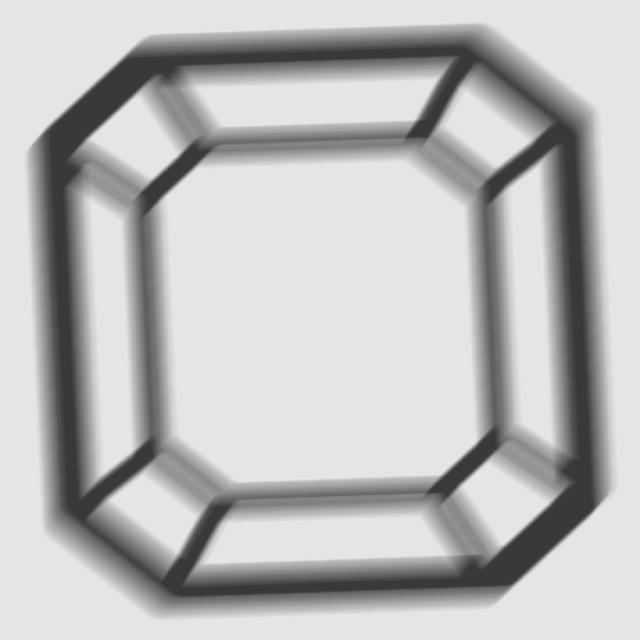emerald: (23, 20, 620, 625)
